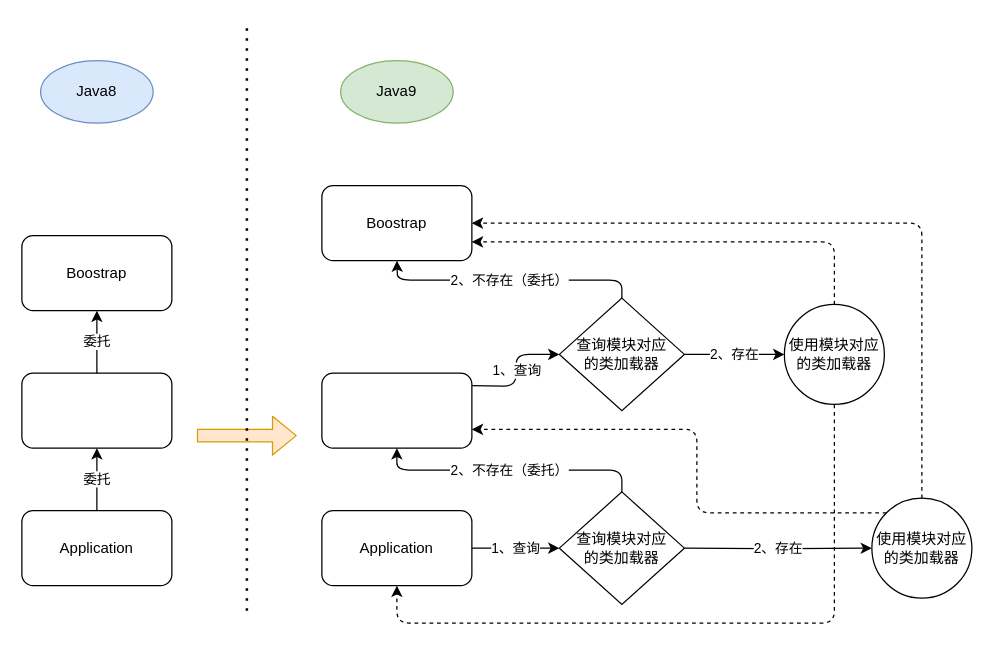
Image size: 994x655. Some labels were removed from this diagram. Each missing label, with the centre of its shape:
"Extension" goes at point (96, 410).
"Platform" goes at point (396, 410).
